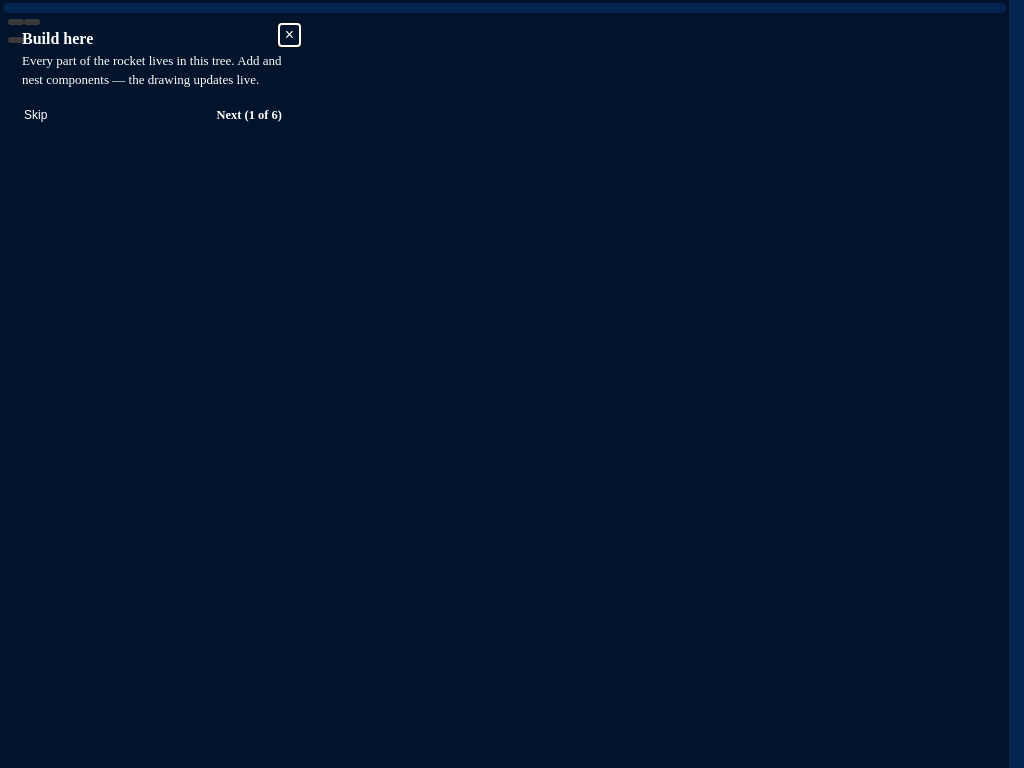
Test case: FirstRunTour › Next walks the steps and switches tabs for tab-bound stops
The width and height of the screenshot is (1024, 768).
Click the button with class "tour-next". click: (249, 115)
box: [204, 102, 294, 129]
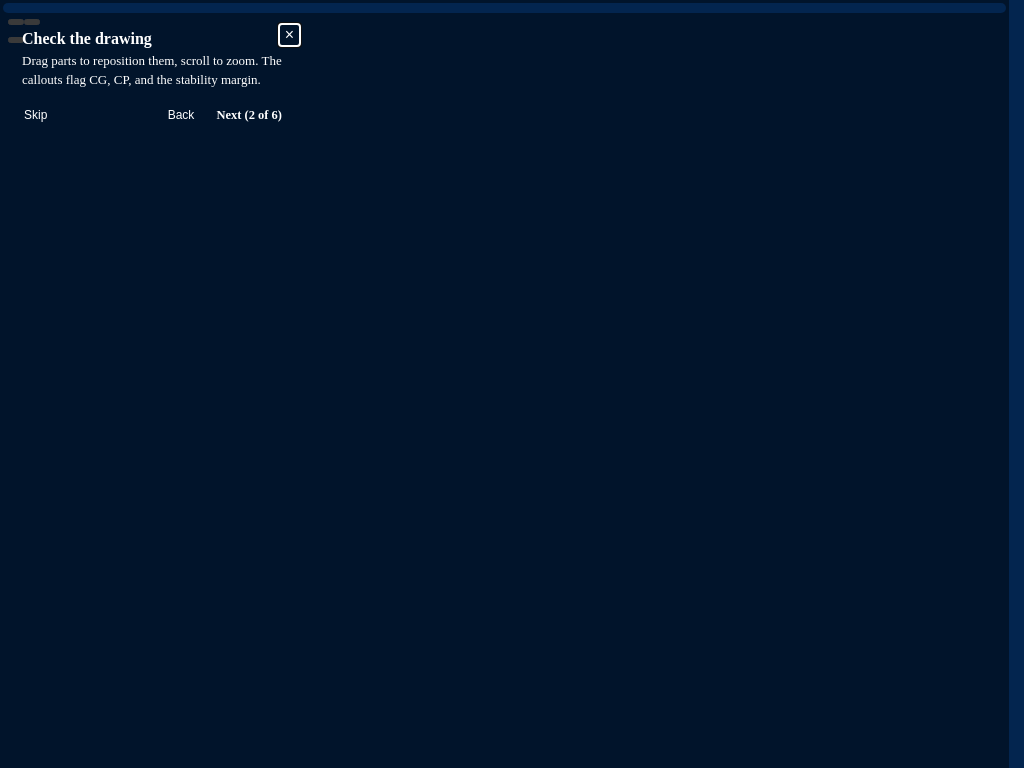
Result: the heading with class "tour-title" reads "Check the drawing" at [22, 30, 152, 47]
Click the button with class "tour-next". click: (249, 115)
box: [204, 102, 294, 129]
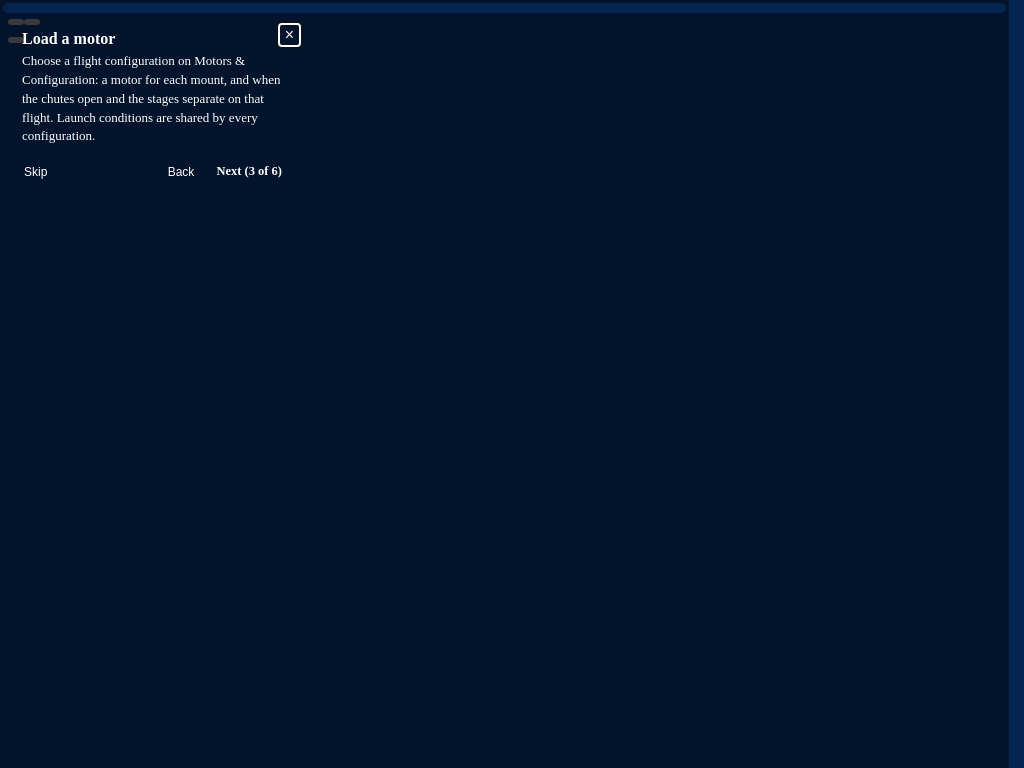
Result: the text "Motors & Configuration" is shown at [22, 53, 280, 143]
Result: the text "shared by every configuration" is shown at [22, 53, 280, 143]
Result: the text "when the chutes open and the stages separate" is shown at [22, 53, 280, 143]
Click the button with class "tour-next". click: (249, 172)
box: [204, 158, 294, 185]
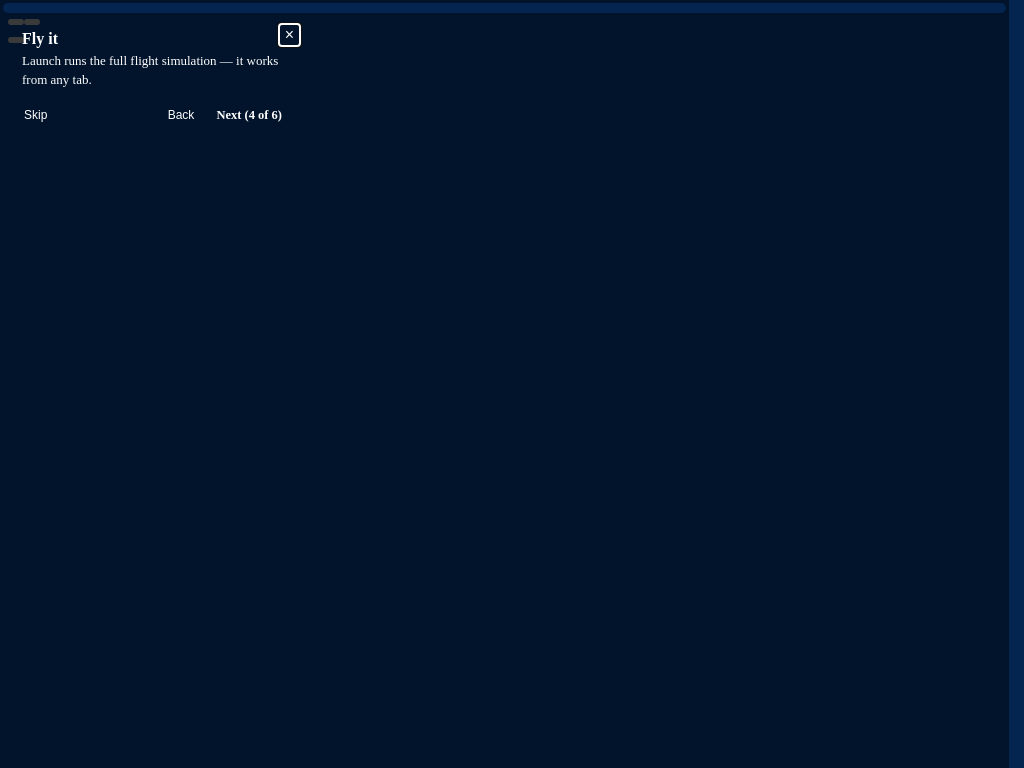
Result: the text "any tab" is shown at [22, 53, 278, 87]
Click the button with class "tour-next". click: (249, 115)
box: [204, 102, 294, 129]
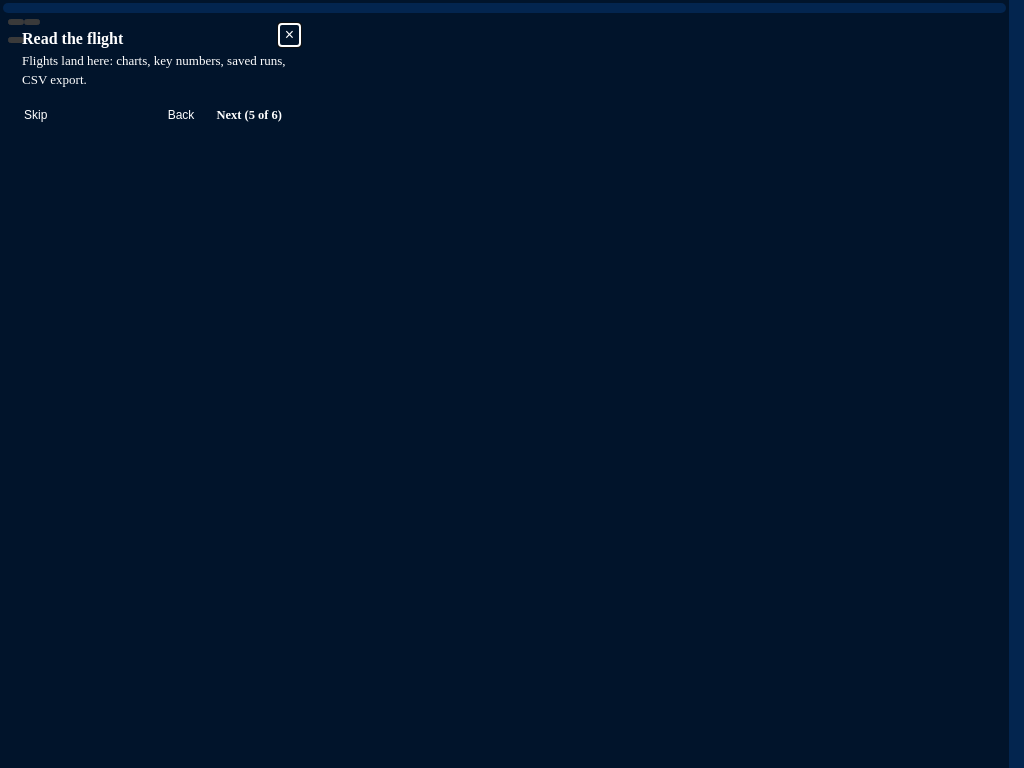
Click the button with class "tour-next". click: (249, 115)
box: [204, 102, 294, 129]
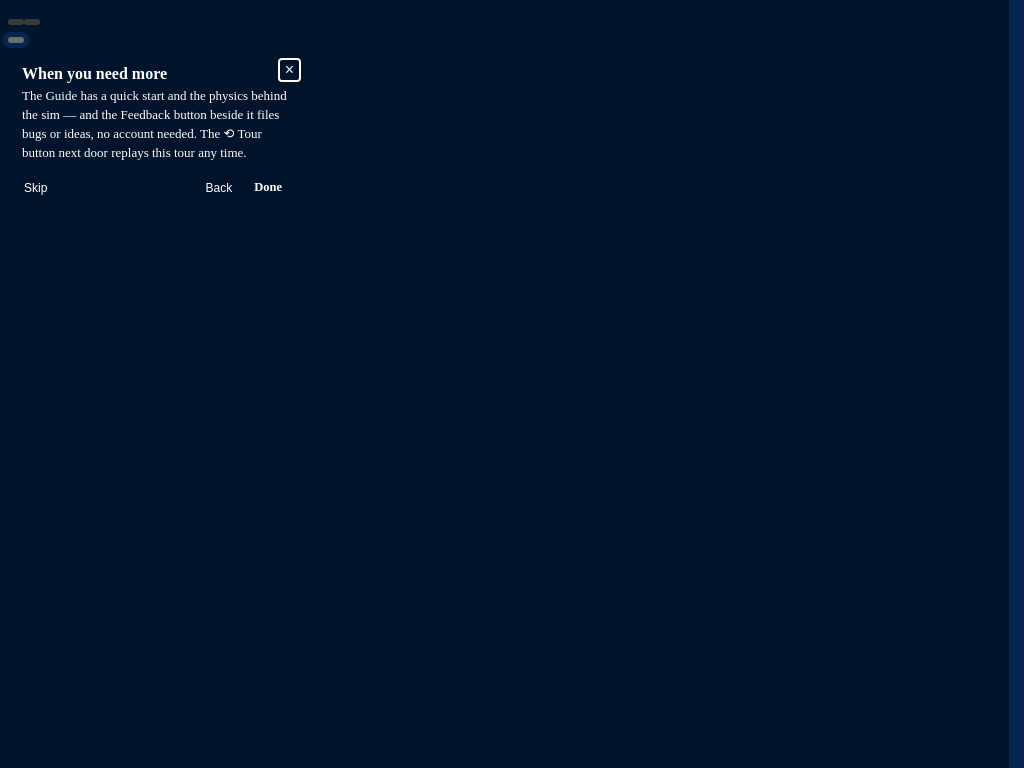
Result: the button with class "tour-next" reads "Done" at [242, 174, 294, 201]
